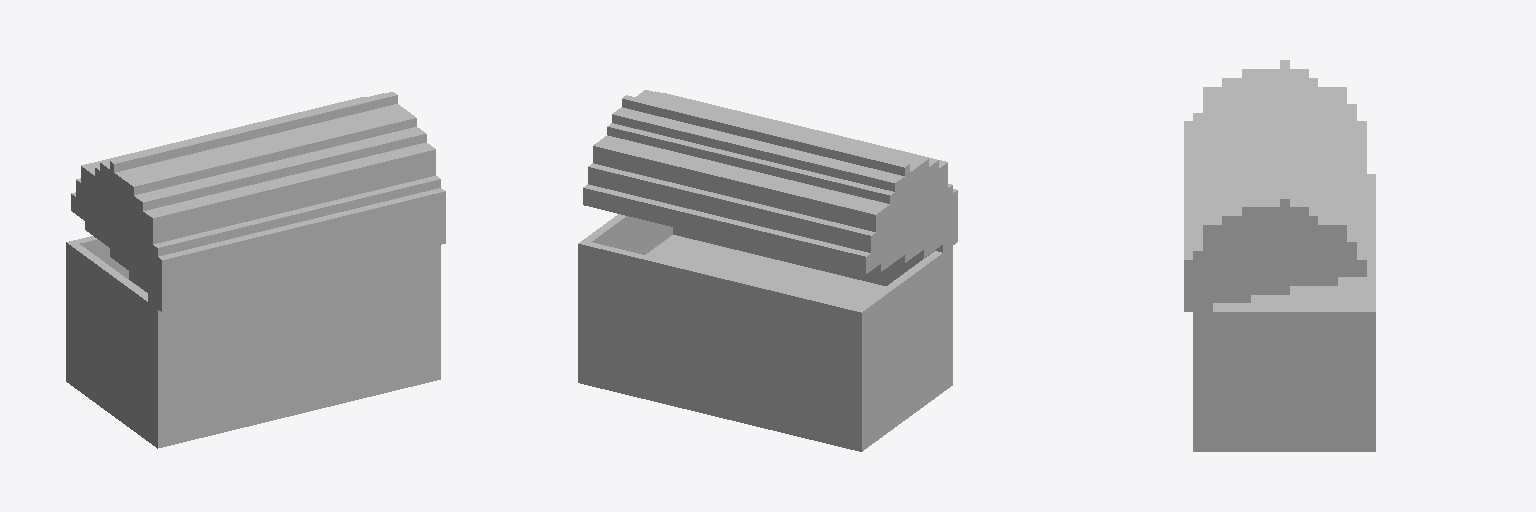
Rendered from Chest.obj.
3 renders of one model, left to right at view 1: azimuth 30°, elevation 25°; view 2: azimuth 150°, elevation 25°; view 3: azimuth 270°, elevation 25°, orthographic.
Visible parts, largest first — view 1: object 1; view 2: object 1; view 3: object 1.
Part boxes in pixels (x1,y1,x2,y2): object 1: (66,92,445,448); object 1: (578,90,957,451); object 1: (1184,60,1375,451).
Bounding box in the file's own units: 3.4 × 2.9 × 2.